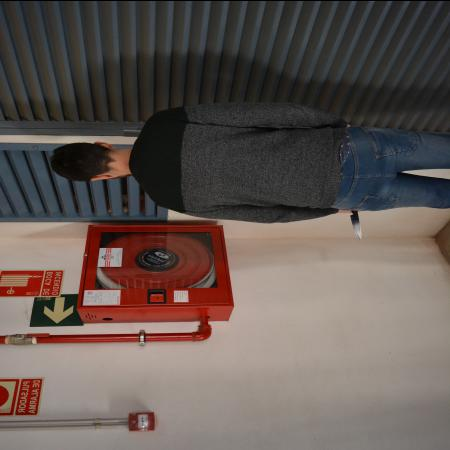long weapon: (346, 210, 364, 242)
